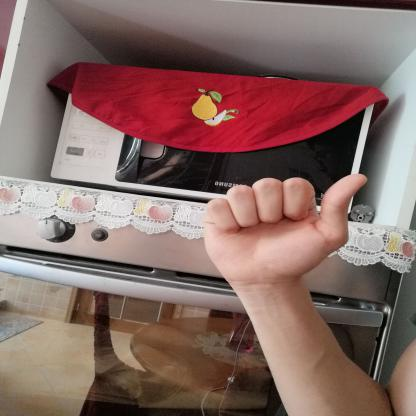DAD: (188, 163, 378, 298)
